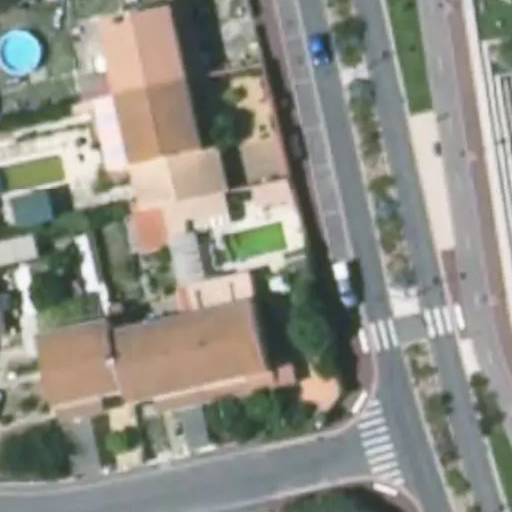pool: (217, 235, 290, 248)
